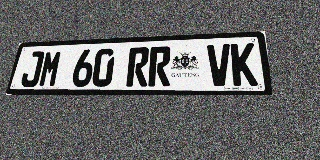0: (91, 48, 115, 87)
6: (71, 49, 96, 87)
J: (19, 51, 45, 87)
K: (230, 43, 258, 86)
M: (38, 50, 63, 87)
R: (126, 47, 150, 87), (148, 46, 171, 86)
V: (207, 44, 232, 86)
